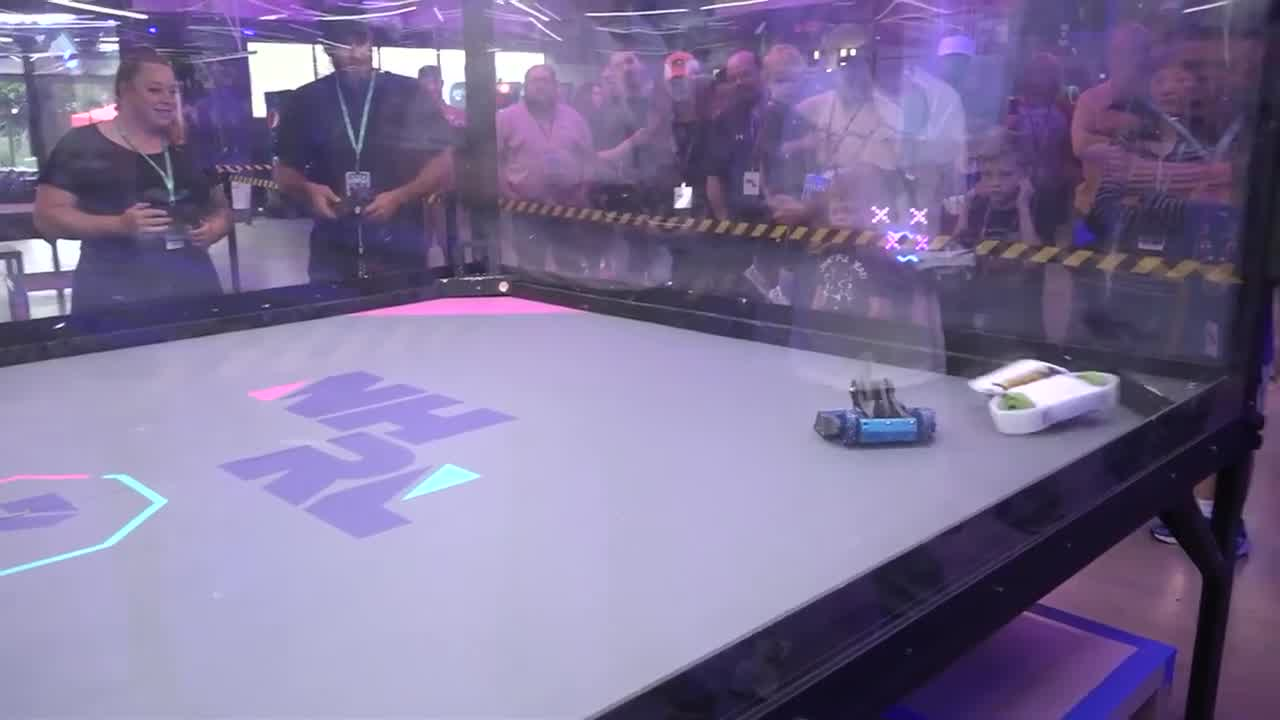combatbot: (968, 357, 1120, 434), (812, 372, 938, 452)
